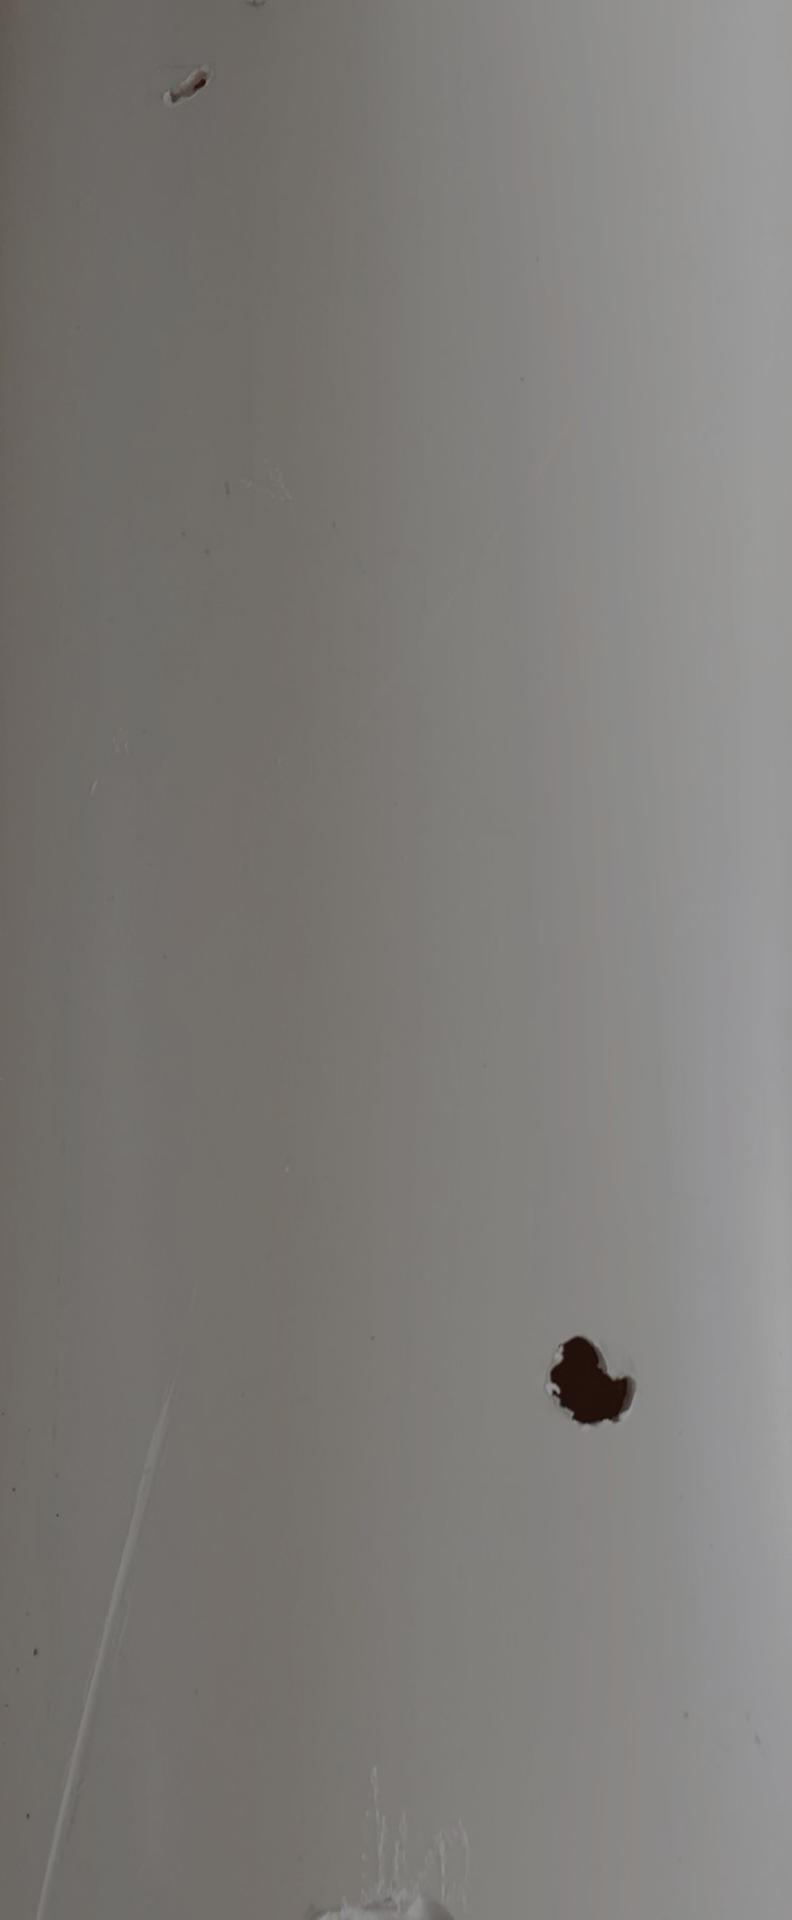kongdong: (541, 1313, 644, 1442), (148, 62, 223, 107)
